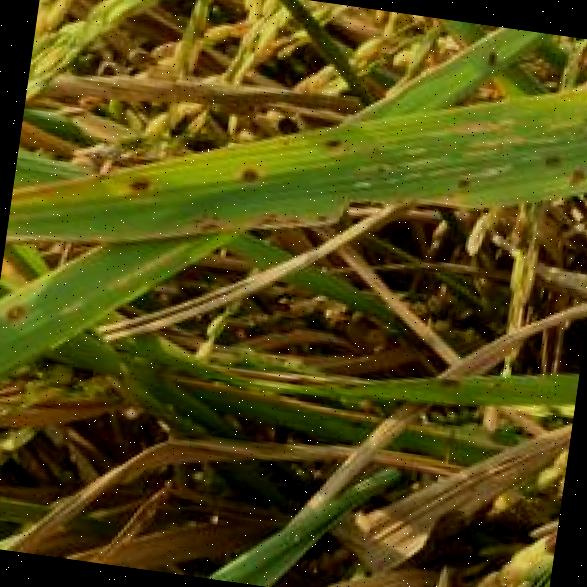Brown_Spot: (0, 291, 28, 324), (121, 166, 152, 189), (315, 125, 346, 147), (561, 152, 583, 180), (234, 158, 260, 180), (435, 367, 460, 386), (537, 145, 560, 161), (450, 170, 469, 180)
